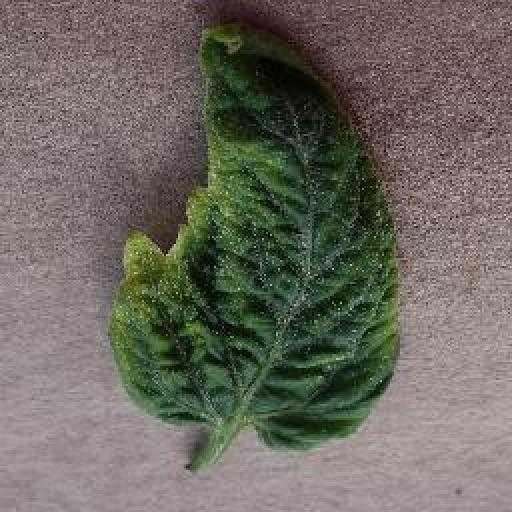Yellow Leaf Curl Virus: (108, 18, 400, 454)
